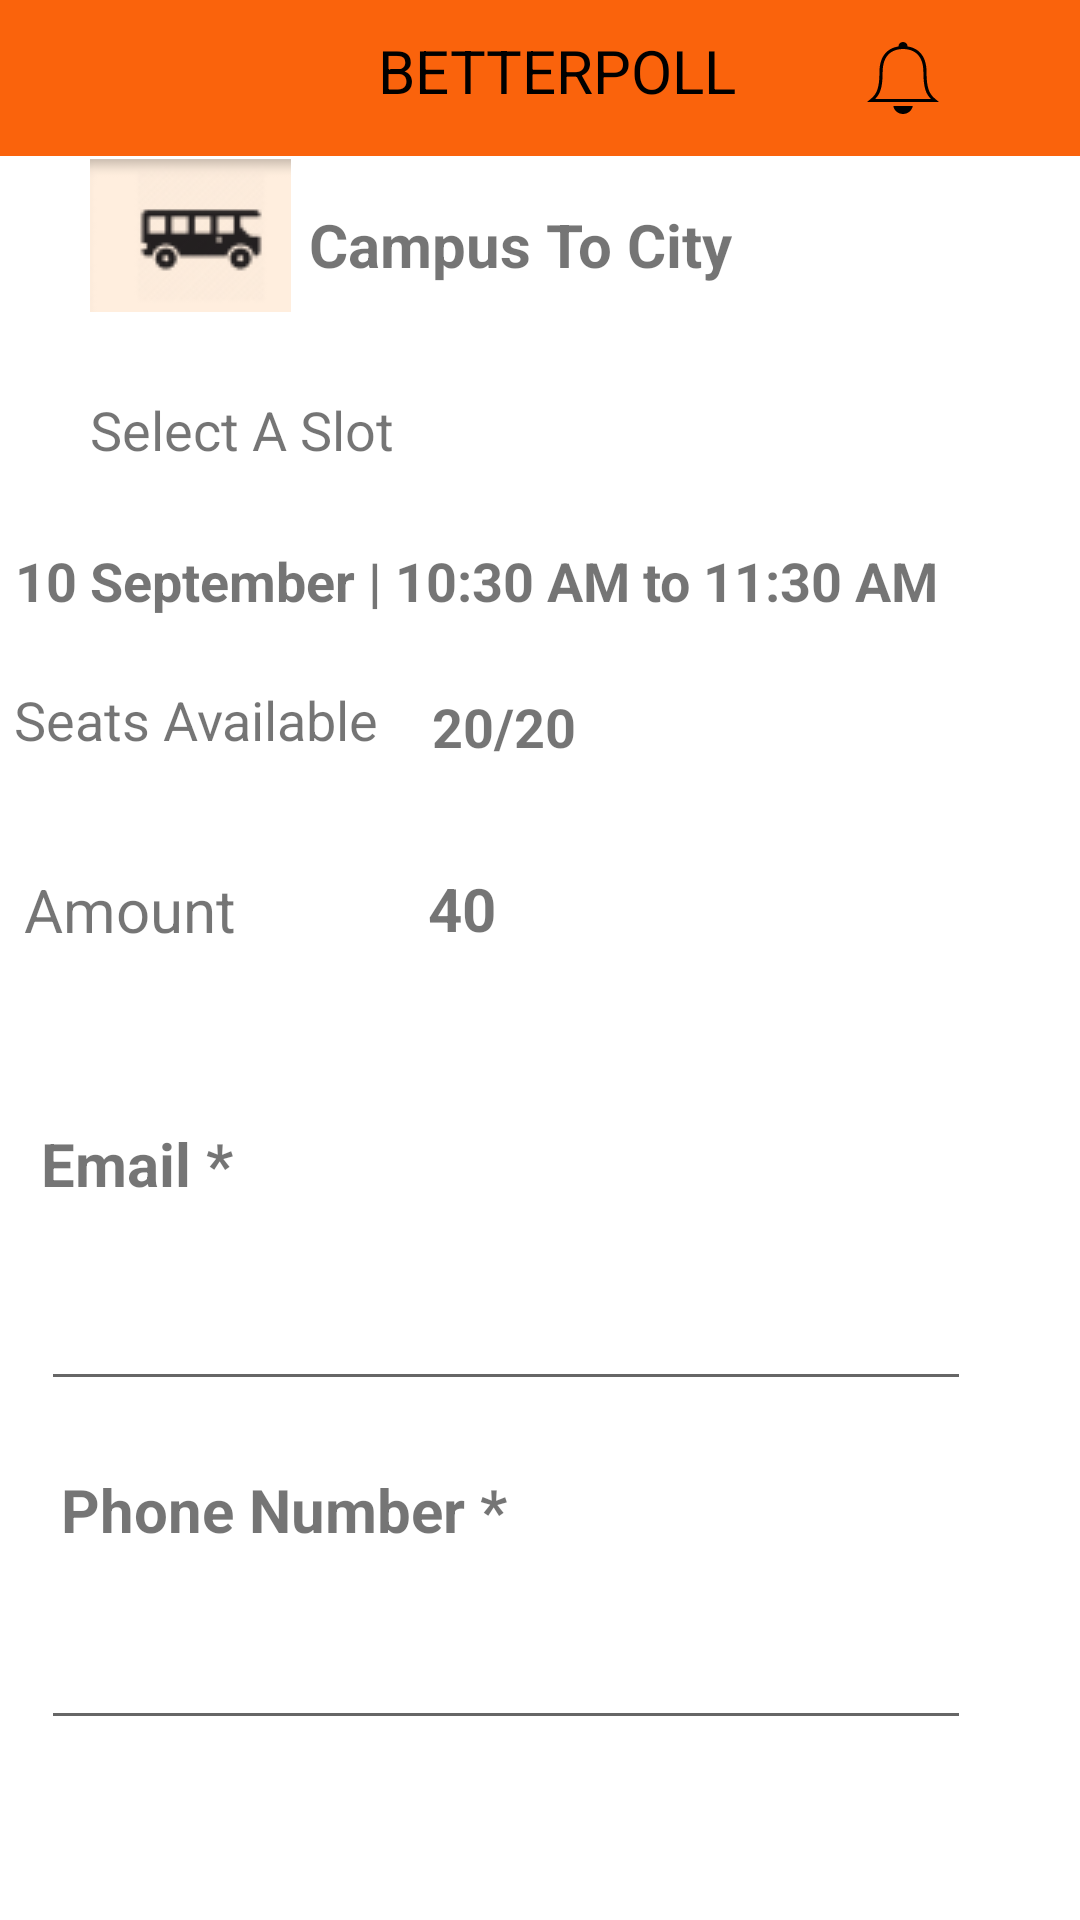

Where to tap for icons on this 1080 × 1920 app screen, as [x,y]:
bell: [903,78]
shuttleimg: [190,235]
